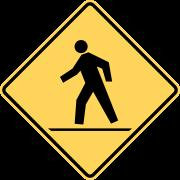School Ahead: (15, 10, 166, 151)
